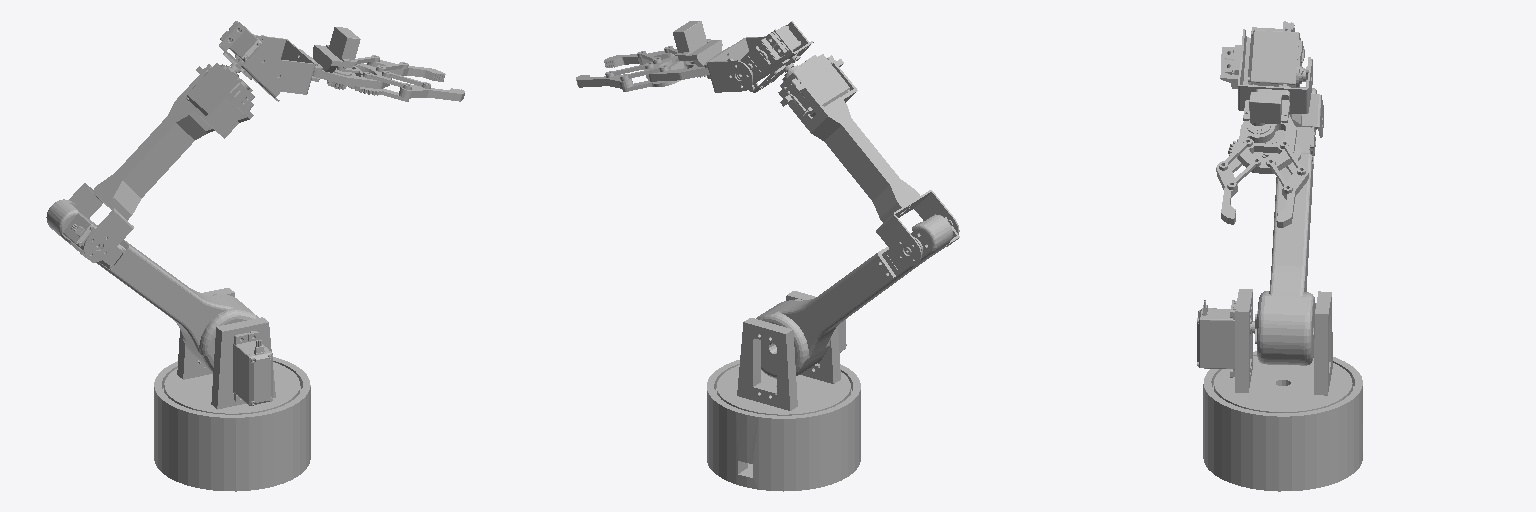
robot.urdf — URDF Assembly jointed:
<?xml version="1.0" encoding="utf-8"?>
<!-- This URDF was automatically created by SolidWorks to URDF Exporter! Originally created by [author] ([email redacted]) 
     Commit Version: 1.6.0-4-g7f85cfe  Build Version: 1.6.7995.38578
     For more information, please see http://wiki.ros.org/sw_urdf_exporter -->
<robot
  name="URDF Assembly jointed">
  <link
    name="Link 1">
    <inertial>
      <origin
        xyz="-1.01334283893056E-05 -0.0019361323875643 0.0248699960086427"
        rpy="0 0 0" />
      <mass
        value="0.374979150221279" />
      <inertia
        ixx="0.000494602015957623"
        ixy="-5.76435514250524E-08"
        ixz="-9.2671561403076E-09"
        iyy="0.000492530631250024"
        iyz="-1.63466208475933E-06"
        izz="0.000781464368514268" />
    </inertial>
    <visual>
      <origin
        xyz="0 0 0"
        rpy="0 0 0" />
      <geometry>
        <mesh
          filename="package://URDF Assembly jointed/meshes/Link 1.STL" />
      </geometry>
      <material
        name="">
        <color
          rgba="0.752941176470588 0.752941176470588 0.752941176470588 1" />
      </material>
    </visual>
    <collision>
      <origin
        xyz="0 0 0"
        rpy="0 0 0" />
      <geometry>
        <mesh
          filename="package://URDF Assembly jointed/meshes/Link 1.STL" />
      </geometry>
    </collision>
  </link>
  <link
    name="Link 2">
    <inertial>
      <origin
        xyz="-0.0028316 -0.010513 0.02217"
        rpy="0 0 0" />
      <mass
        value="0.13028" />
      <inertia
        ixx="0.00012263"
        ixy="-1.3121E-13"
        ixz="4.0672E-06"
        iyy="9.6671E-05"
        iyz="-4.8982E-08"
        izz="0.00012555" />
    </inertial>
    <visual>
      <origin
        xyz="0 0 0"
        rpy="0 0 0" />
      <geometry>
        <mesh
          filename="package://URDF Assembly jointed/meshes/Link 2.STL" />
      </geometry>
      <material
        name="">
        <color
          rgba="0.75294 0.75294 0.75294 1" />
      </material>
    </visual>
    <collision>
      <origin
        xyz="0 0 0"
        rpy="0 0 0" />
      <geometry>
        <mesh
          filename="package://URDF Assembly jointed/meshes/Link 2.STL" />
      </geometry>
    </collision>
  </link>
  <joint
    name="Joint 1"
    type="continuous">
    <origin
      xyz="0 0 0.05292"
      rpy="0 0 -0.071366" />
    <parent
      link="Link 1" />
    <child
      link="Link 2" />
    <axis
      xyz="0 0 1" />
  </joint>
  <link
    name="Link 3">
    <inertial>
      <origin
        xyz="-0.0430614548939805 0.000388770420657089 0.0397544004836013"
        rpy="0 0 0" />
      <mass
        value="0.194725413090091" />
      <inertia
        ixx="0.000234932161868535"
        ixy="-3.94170297411598E-06"
        ixz="0.000212707302690552"
        iyy="0.000469662379617154"
        iyz="3.29719245635184E-06"
        izz="0.000274498175426561" />
    </inertial>
    <visual>
      <origin
        xyz="0 0 0"
        rpy="0 0 0" />
      <geometry>
        <mesh
          filename="package://URDF Assembly jointed/meshes/Link 3.STL" />
      </geometry>
      <material
        name="">
        <color
          rgba="0.752941176470588 0.752941176470588 0.752941176470588 1" />
      </material>
    </visual>
    <collision>
      <origin
        xyz="0 0 0"
        rpy="0 0 0" />
      <geometry>
        <mesh
          filename="package://URDF Assembly jointed/meshes/Link 3.STL" />
      </geometry>
    </collision>
  </link>
  <joint
    name="Joint 2"
    type="continuous">
    <origin
      xyz="-0.0058396 6.8064E-05 0.049096"
      rpy="0 0 -0.011655" />
    <parent
      link="Link 2" />
    <child
      link="Link 3" />
    <axis
      xyz="0 1 0" />
  </joint>
  <link
    name="Link 4 ">
    <inertial>
      <origin
        xyz="0.086345 -0.011755 0.061238"
        rpy="0 0 0" />
      <mass
        value="0.08313" />
      <inertia
        ixx="3.535E-05"
        ixy="4.2804E-06"
        ixz="-2.938E-05"
        iyy="7.0591E-05"
        iyz="2.6959E-06"
        izz="5.8703E-05" />
    </inertial>
    <visual>
      <origin
        xyz="0 0 0"
        rpy="0 0 0" />
      <geometry>
        <mesh
          filename="package://URDF Assembly jointed/meshes/Link 4 .STL" />
      </geometry>
      <material
        name="">
        <color
          rgba="0.75294 0.75294 0.75294 1" />
      </material>
    </visual>
    <collision>
      <origin
        xyz="0 0 0"
        rpy="0 0 0" />
      <geometry>
        <mesh
          filename="package://URDF Assembly jointed/meshes/Link 4 .STL" />
      </geometry>
    </collision>
  </link>
  <joint
    name="Joint 3"
    type="continuous">
    <origin
      xyz="-0.12047 0 0.11182"
      rpy="0 -0.092189 0" />
    <parent
      link="Link 3" />
    <child
      link="Link 4 " />
    <axis
      xyz="0 -1 0" />
  </joint>
  <link
    name="Link 5 ">
    <inertial>
      <origin
        xyz="0.043999 0.0010642 -0.0084742"
        rpy="0 0 0" />
      <mass
        value="0.035809" />
      <inertia
        ixx="9.876E-06"
        ixy="1.1255E-07"
        ixz="2.4065E-08"
        iyy="7.0058E-06"
        iyz="4.1003E-09"
        izz="5.326E-06" />
    </inertial>
    <visual>
      <origin
        xyz="0 0 0"
        rpy="0 0 0" />
      <geometry>
        <mesh
          filename="package://URDF Assembly jointed/meshes/Link 5 .STL" />
      </geometry>
      <material
        name="">
        <color
          rgba="0.75294 0.75294 0.75294 1" />
      </material>
    </visual>
    <collision>
      <origin
        xyz="0 0 0"
        rpy="0 0 0" />
      <geometry>
        <mesh
          filename="package://URDF Assembly jointed/meshes/Link 5 .STL" />
      </geometry>
    </collision>
  </link>
  <joint
    name="Joint 4 "
    type="continuous">
    <origin
      xyz="0.1135 -0.0061846 0.081884"
      rpy="0.0013231 -0.62502 0.010831" />
    <parent
      link="Link 4 " />
    <child
      link="Link 5 " />
    <axis
      xyz="0.99996 -0.0087839 0" />
  </joint>
  <link
    name="Gripper ">
    <inertial>
      <origin
        xyz="0.0581775801006509 0.00300004050292952 0.0390460392361424"
        rpy="0 0 0" />
      <mass
        value="0.0396257636599123" />
      <inertia
        ixx="6.86170859866324E-06"
        ixy="-7.5961985740369E-08"
        ixz="-2.85190073876784E-06"
        iyy="8.67956996485907E-06"
        iyz="2.5615322179796E-08"
        izz="1.08506560462379E-05" />
    </inertial>
    <visual>
      <origin
        xyz="0 0 0"
        rpy="0 0 0" />
      <geometry>
        <mesh
          filename="package://URDF Assembly jointed/meshes/Gripper .STL" />
      </geometry>
      <material
        name="">
        <color
          rgba="0.752941176470588 0.752941176470588 0.752941176470588 1" />
      </material>
    </visual>
    <collision>
      <origin
        xyz="0 0 0"
        rpy="0 0 0" />
      <geometry>
        <mesh
          filename="package://URDF Assembly jointed/meshes/Gripper .STL" />
      </geometry>
    </collision>
  </link>
  <joint
    name="Joint 5 "
    type="continuous">
    <origin
      xyz="0.045016 -0.00087641 -0.017987"
      rpy="-1.2972 1.543 -1.3059" />
    <parent
      link="Link 5 " />
    <child
      link="Gripper " />
    <axis
      xyz="0 1 0" />
  </joint>
</robot>

--- Render facts (derived) ---
The picture shows the robot from 3 angles, left to right: view 1: azimuth 30°, elevation 25°; view 2: azimuth 150°, elevation 25°; view 3: azimuth 270°, elevation 25°; orthographic projection.
Model URDF Assembly jointed with 6 links and 5 joints (5 continuous), rooted at Link 1, posed all joints at 0.
Links seen in each view (by area): view 1: Link 1, Link 4, Link 2, Link 3, Gripper, Link 5; view 2: Link 1, Link 4, Link 2, Link 3, Gripper, Link 5; view 3: Link 1, Link 2, Link 3, Gripper, Link 5, Link 4.
Link boxes in pixels (bbox=[...]): Link 1: bbox=[154, 357, 310, 491]; Link 4: bbox=[69, 52, 254, 261]; Link 2: bbox=[164, 288, 299, 414]; Link 3: bbox=[46, 199, 258, 371]; Gripper: bbox=[235, 27, 464, 101]; Link 5: bbox=[219, 21, 296, 101]; Link 1: bbox=[707, 360, 860, 491]; Link 4: bbox=[773, 54, 959, 265]; Link 2: bbox=[717, 291, 850, 415]; Link 3: bbox=[756, 214, 959, 378]; Gripper: bbox=[576, 21, 786, 92]; Link 5: bbox=[727, 21, 813, 92]; Link 1: bbox=[1203, 351, 1362, 491]; Link 2: bbox=[1197, 289, 1352, 412]; Link 3: bbox=[1257, 87, 1322, 365]; Gripper: bbox=[1216, 56, 1312, 227]; Link 5: bbox=[1241, 21, 1310, 87]; Link 4: bbox=[1220, 45, 1323, 137].
Bounding box of the posed robot: 0.33 × 0.1216 × 0.3569 m (x, y, z).
Meshes: 6 distinct files referenced, 6 mesh visuals loaded (6 binary STL).